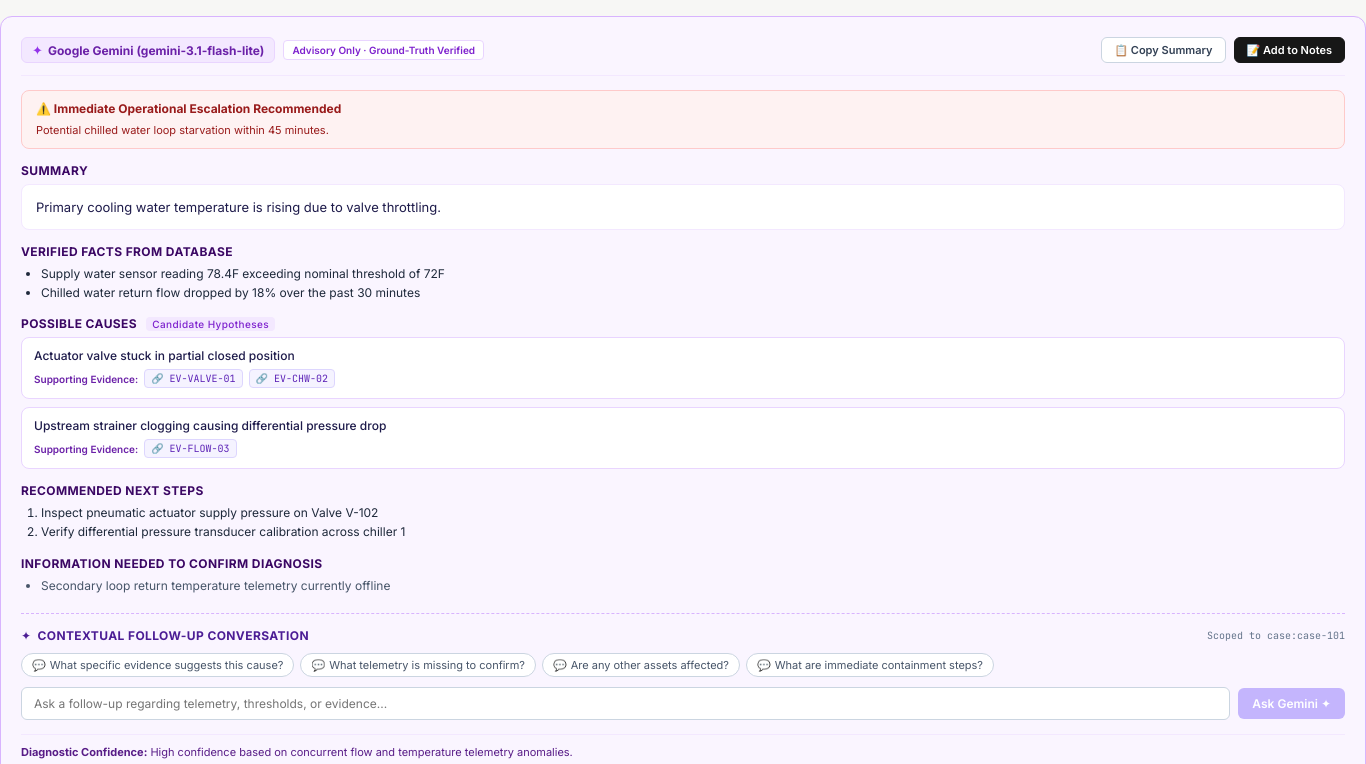
Test case: AIAssistancePanel Component › supports adding recommendation to investigation notes
The width and height of the screenshot is (1366, 764).
Click the button "📝 Add to Notes". click: {"x": 1289, "y": 50}
box: [1234, 37, 1345, 63]
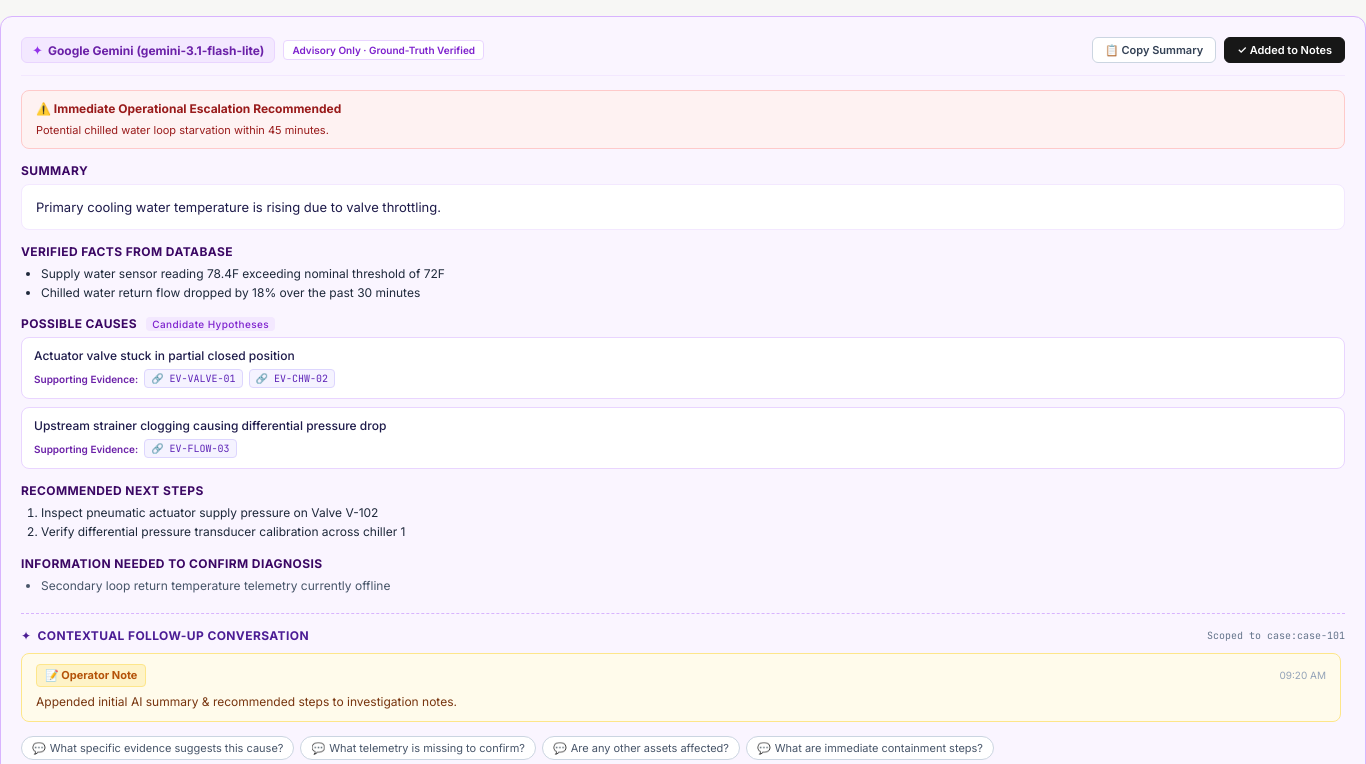
Expected: the text "Appended initial AI summary & recommended steps to investigation notes" is shown, [36, 694, 457, 709]
